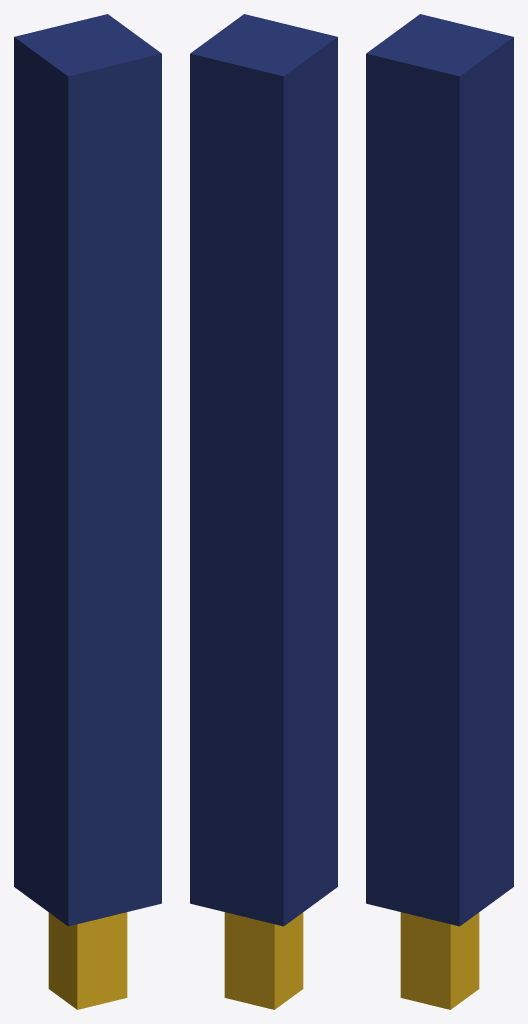
The model's file is pen.glb.
3 views of the same model, side by side, from view 1: azimuth 30°, elevation 25°; view 2: azimuth 150°, elevation 25°; view 3: azimuth 330°, elevation 25° (orthographic).
Visible parts, largest first — view 1: pen; view 2: pen; view 3: pen.
Part boxes in pixels (x1,y1,x2,y2): pen: (14, 14, 161, 1009); pen: (190, 14, 337, 1009); pen: (366, 14, 513, 1009).
Size of the model in its own units: 0.015 by 0.145 by 0.015.
1 material, 1 textured.
